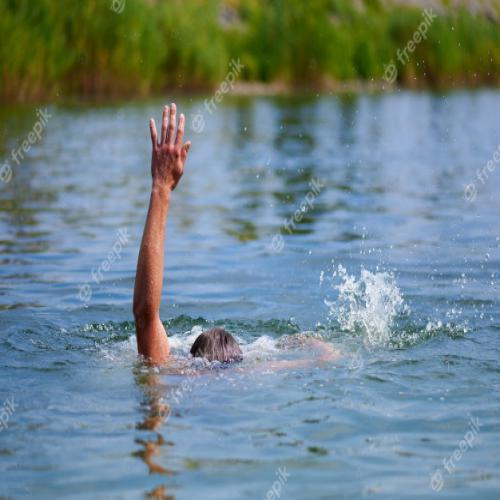drowning: (122, 68, 343, 418)
